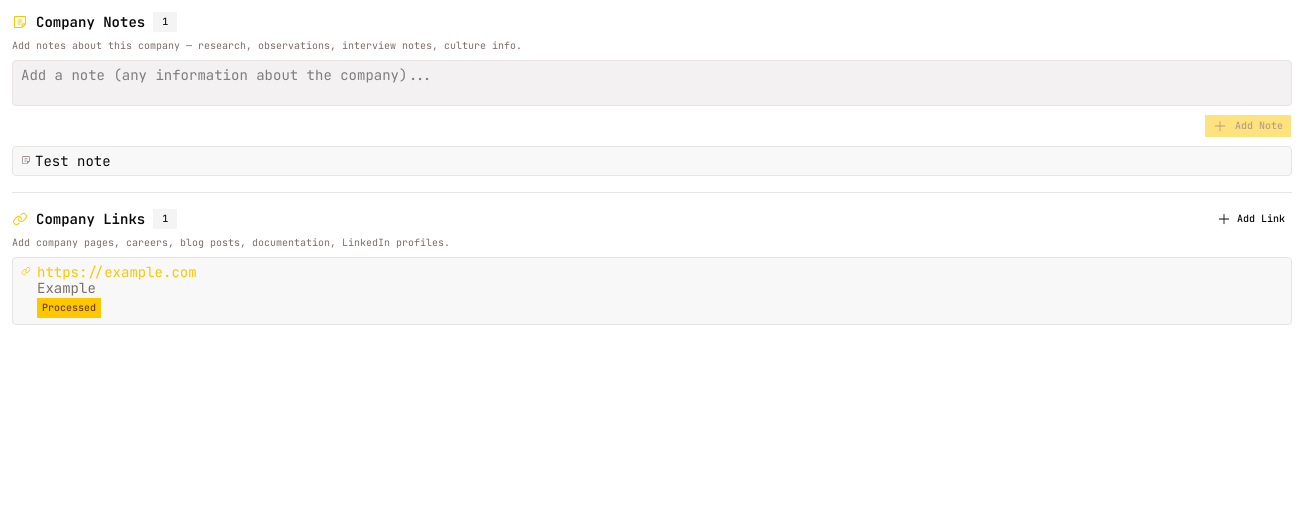
it: CompanyNotesTab › renders link form when Add Link clicked
Click the button "Add Link": (1251, 219) x1=1210 y1=209 x2=1292 y2=229
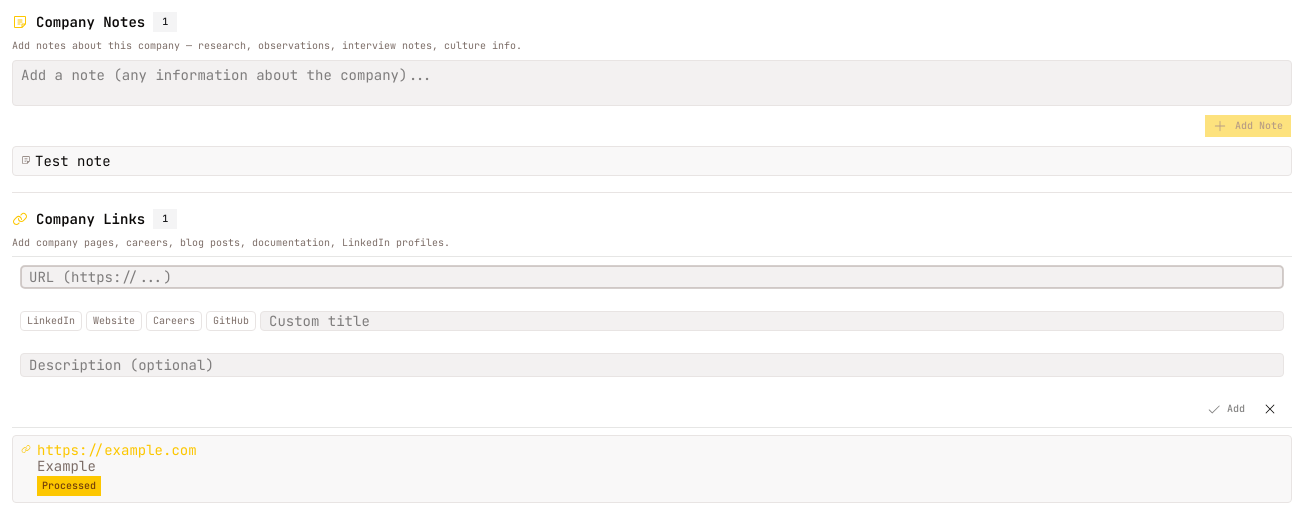
Result: the field with placeholder "URL (https://...)" is shown at x1=20 y1=265 x2=1284 y2=289
